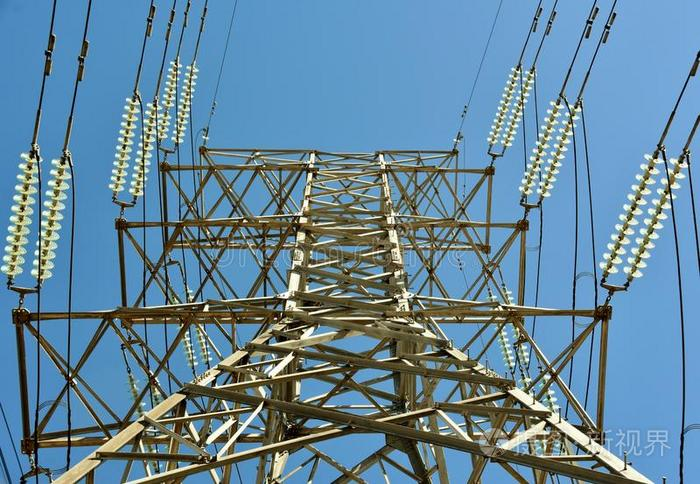insulator: (602, 152, 688, 275), (1, 151, 72, 284), (521, 102, 585, 197), (105, 97, 161, 191), (487, 62, 536, 146), (153, 60, 197, 145), (486, 289, 531, 367)
